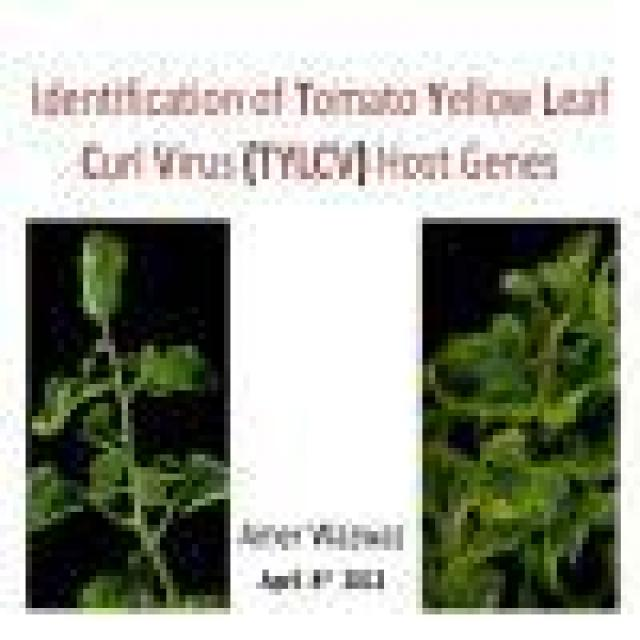Healthy Leaf: (449, 430, 564, 532), (430, 315, 545, 417), (78, 219, 129, 334), (135, 334, 225, 398), (33, 366, 110, 436)
